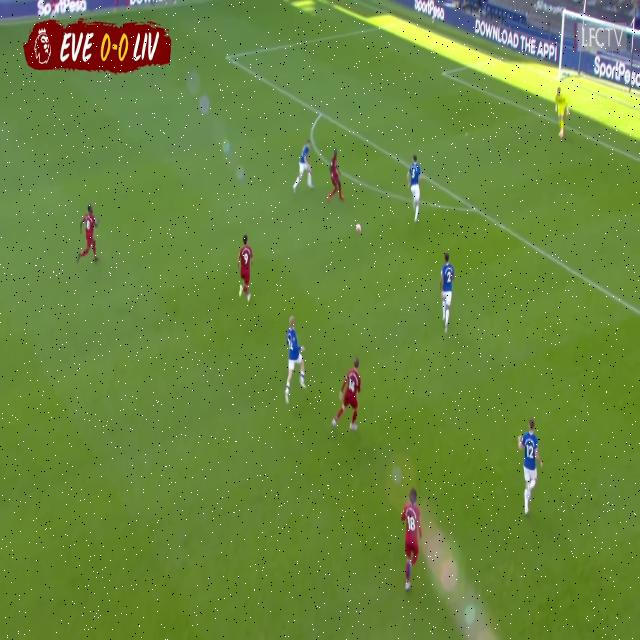Ball: (354, 219, 362, 235)
GoalKeeper: (552, 83, 573, 152)
TEAM 1: (326, 346, 363, 444), (399, 485, 425, 595), (77, 198, 103, 272), (235, 227, 256, 302), (326, 144, 345, 210)
TEAM 2: (278, 311, 308, 409), (517, 414, 544, 521), (433, 247, 456, 344), (291, 136, 318, 202), (407, 154, 423, 224)
